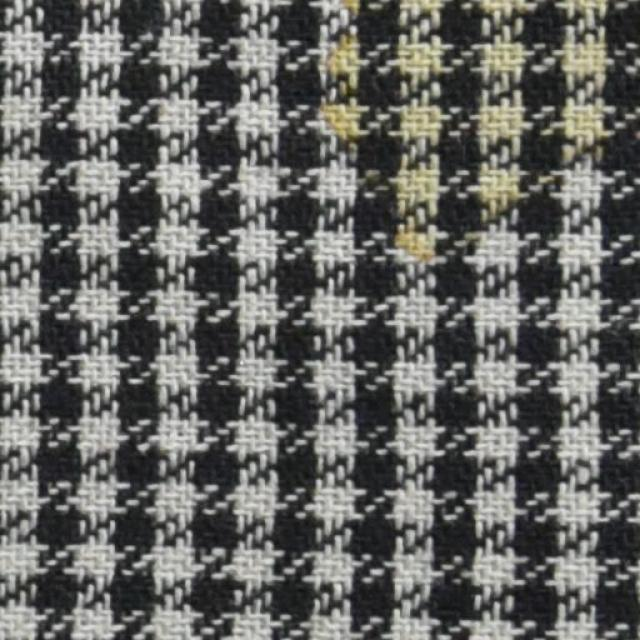Stain: (304, 0, 639, 279)
